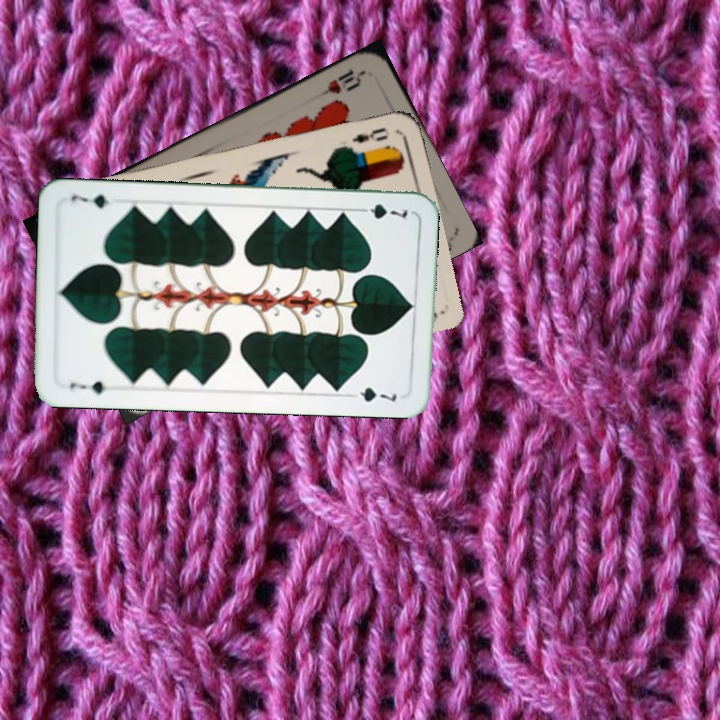EO: (340, 123, 390, 154)
G7: (353, 200, 410, 222), (65, 377, 108, 397)
H10: (312, 66, 367, 101)
